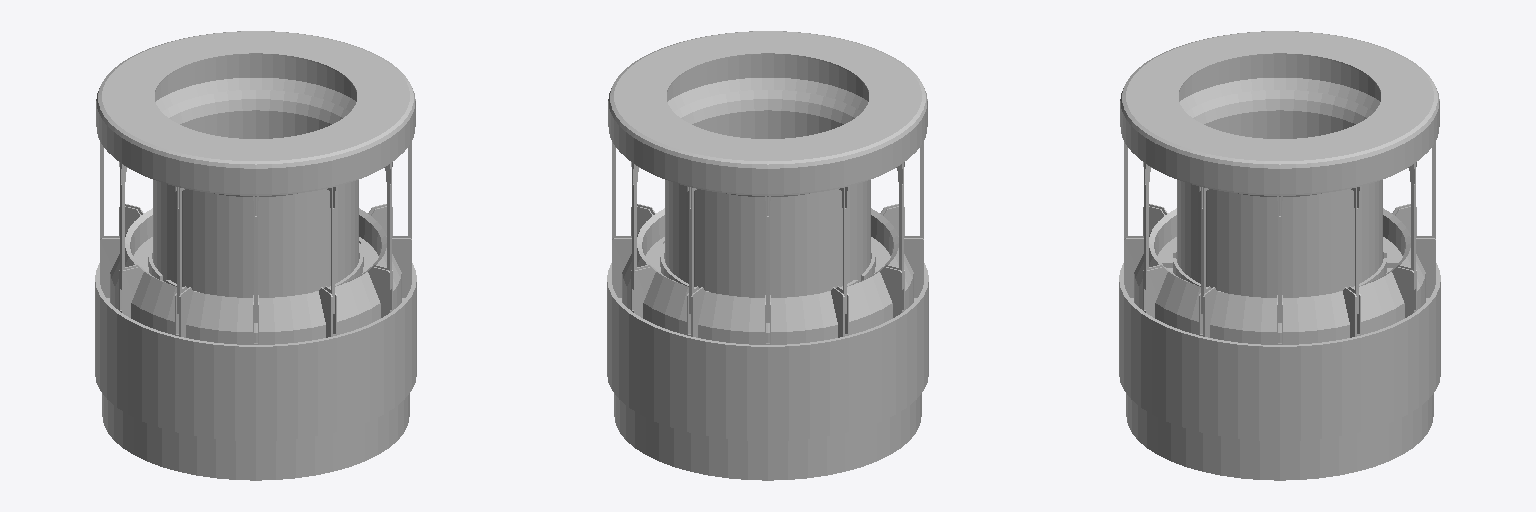
The model's file is item dropper.obj.
The picture shows the model from 3 angles: view 1: azimuth 30°, elevation 25°; view 2: azimuth 150°, elevation 25°; view 3: azimuth 270°, elevation 25°; orthographic projection.
Visible parts, largest first — view 1: Body.dmx/item_dropper_model.dmx.mesh_0, Body.dmx/item_dropper_model.dmx.mesh_1; view 2: Body.dmx/item_dropper_model.dmx.mesh_0, Body.dmx/item_dropper_model.dmx.mesh_1; view 3: Body.dmx/item_dropper_model.dmx.mesh_0, Body.dmx/item_dropper_model.dmx.mesh_1.
Part boxes in pixels (bbox=[...]): Body.dmx/item_dropper_model.dmx.mesh_0: bbox=[95, 31, 416, 480]; Body.dmx/item_dropper_model.dmx.mesh_1: bbox=[153, 90, 358, 297]; Body.dmx/item_dropper_model.dmx.mesh_0: bbox=[607, 31, 928, 480]; Body.dmx/item_dropper_model.dmx.mesh_1: bbox=[665, 90, 870, 297]; Body.dmx/item_dropper_model.dmx.mesh_0: bbox=[1119, 31, 1440, 480]; Body.dmx/item_dropper_model.dmx.mesh_1: bbox=[1177, 90, 1382, 297].
Bounding box in the file's own units: 117 × 128 × 117.